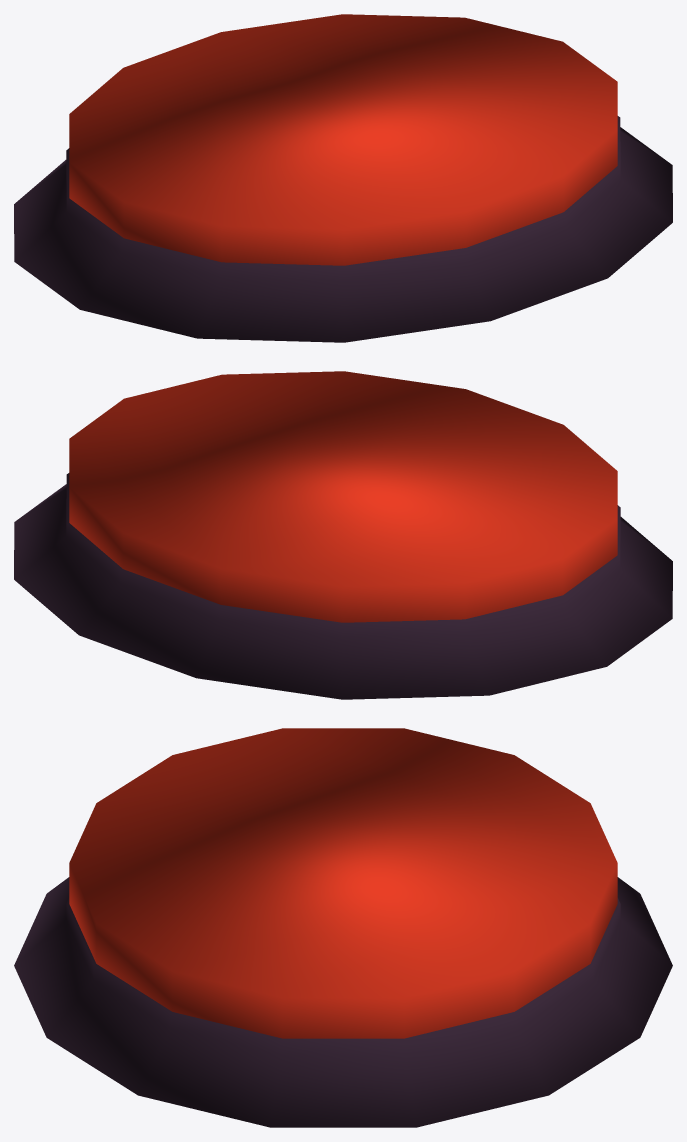
File: Boton.fbx
3 views of the same model, one above another, from view 1: azimuth 30°, elevation 25°; view 2: azimuth 150°, elevation 25°; view 3: azimuth 270°, elevation 25° (orthographic). The views are drawn at different scales.
Parts seen in each view (by area): view 1: Cilindro.001, Cilindro; view 2: Cilindro.001, Cilindro; view 3: Cilindro.001, Cilindro.
Part boxes in pixels (x1,y1,x2,y2): Cilindro.001: (69,14,617,265); Cilindro: (14,116,672,342); Cilindro.001: (69,371,617,622); Cilindro: (14,473,672,699); Cilindro.001: (69,728,617,1038); Cilindro: (14,877,672,1127).
Size of the model in its own units: 70.75 by 10.45 by 60.86.
